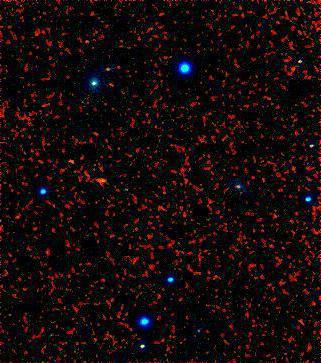star: (85, 167, 115, 197)
